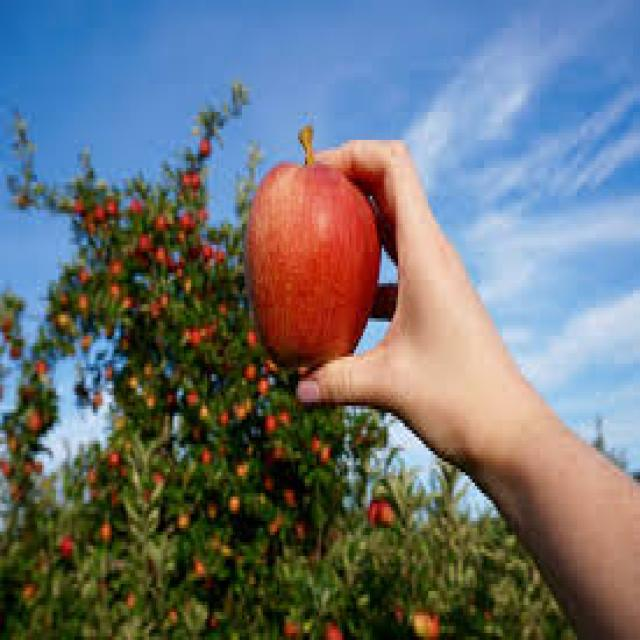apple: (249, 155, 385, 371)
